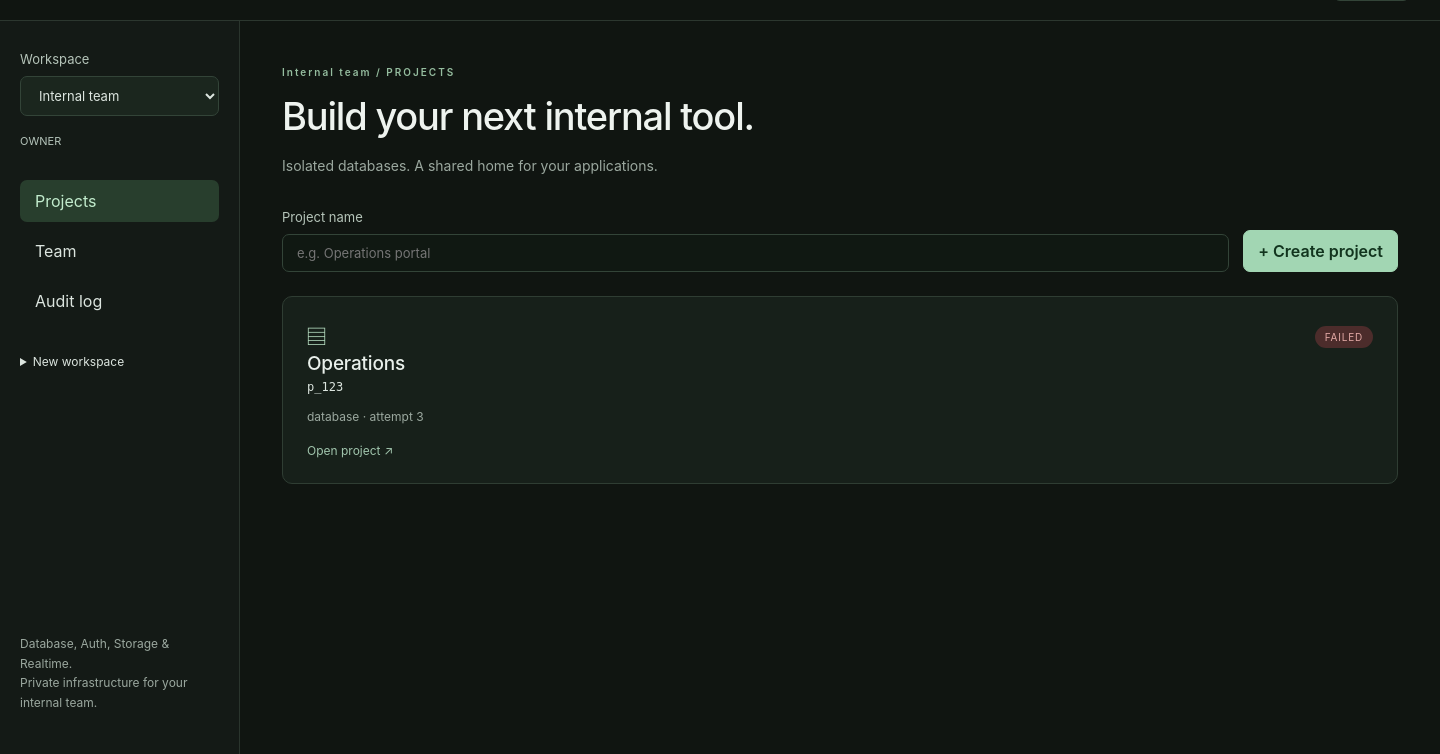
Phase 2 control dashboard › shows real failed job state and retry control
Click the button "Operations" at (840, 390), box x1=282 y1=296 x2=1398 y2=484
(page scrolled)
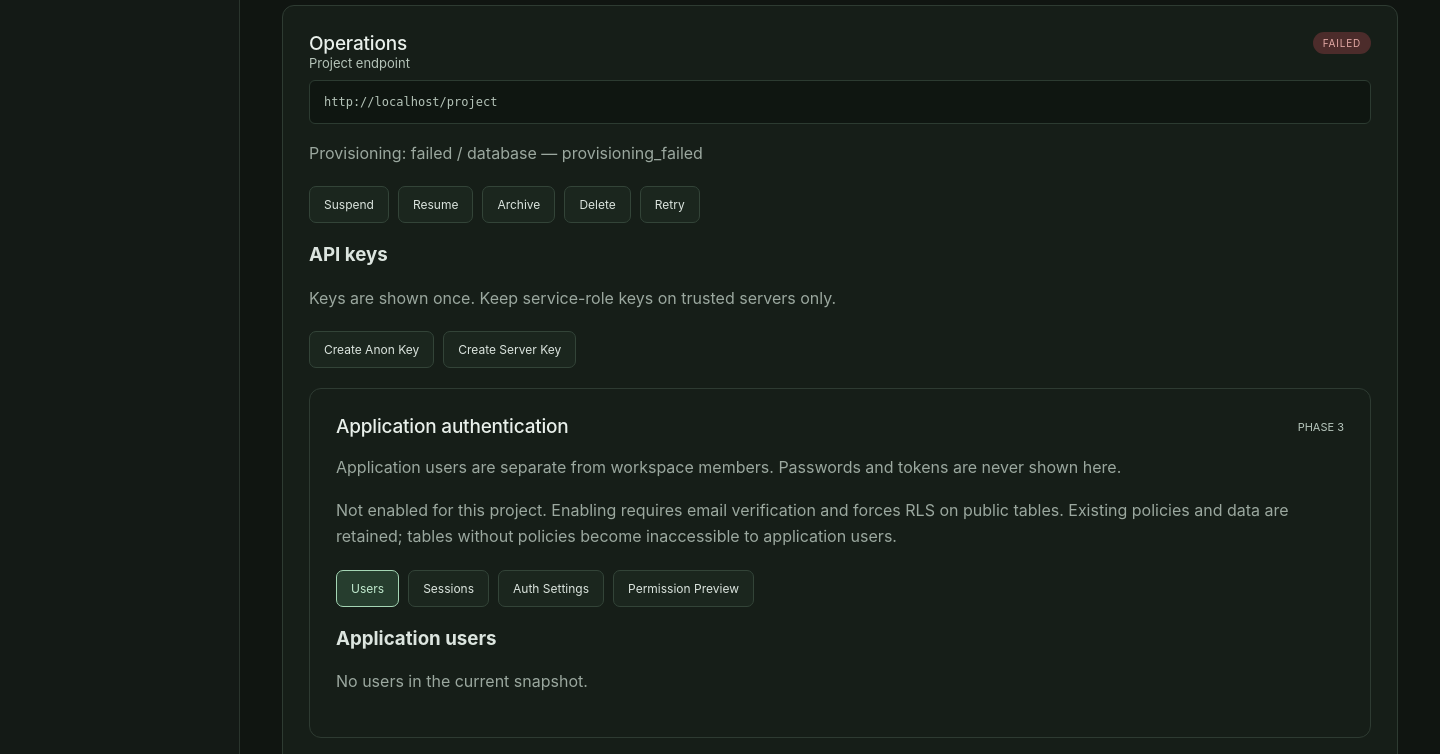
expect the text "http://localhost/project" is shown: met, box x1=309 y1=80 x2=1371 y2=124
expect the button "retry" is shown: met, box x1=640 y1=186 x2=700 y2=223
expect the text "Provisioning: failed / database — provisioning_failed" is shown: met, box x1=309 y1=143 x2=703 y2=163
